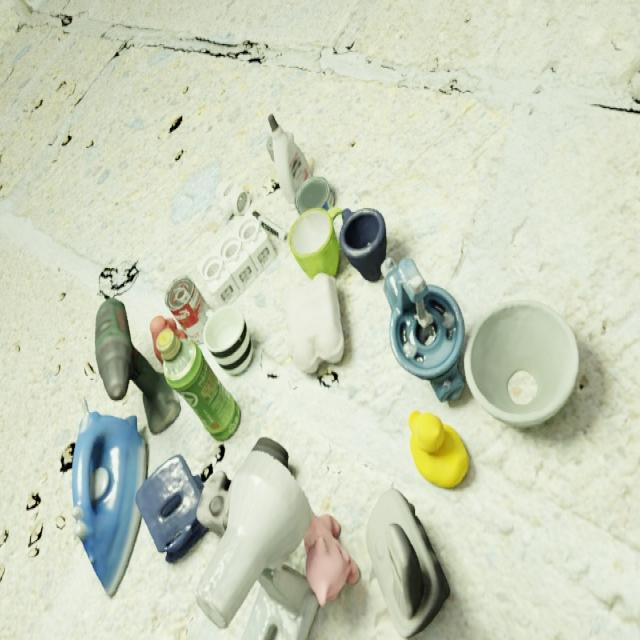Other Objects: (198, 449, 311, 627), (465, 303, 579, 427), (73, 412, 147, 595), (366, 489, 450, 639), (385, 259, 465, 400), (96, 299, 180, 432), (189, 210, 285, 308), (164, 339, 240, 441), (137, 455, 206, 561), (198, 213, 277, 305), (242, 565, 319, 639), (288, 275, 345, 373), (305, 513, 360, 607), (269, 113, 313, 204), (411, 421, 470, 488), (289, 208, 341, 277), (204, 305, 253, 375), (340, 209, 386, 281), (166, 276, 210, 340), (151, 315, 185, 361), (296, 177, 334, 212), (157, 328, 182, 363), (413, 411, 439, 419)
